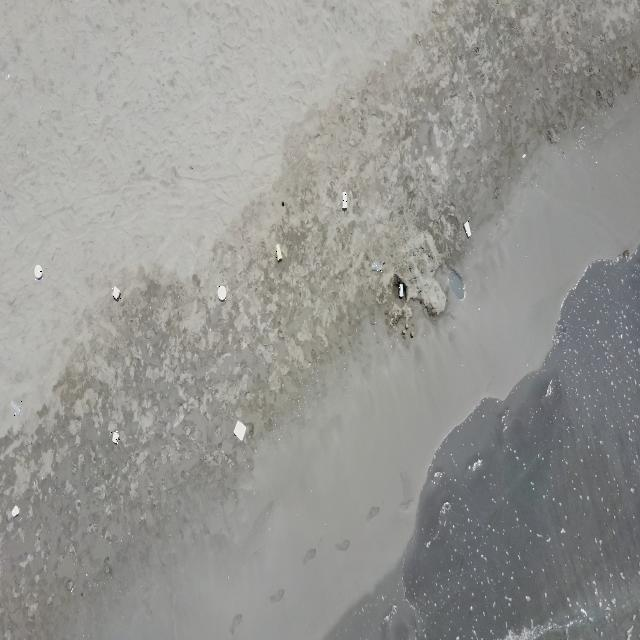take-away-containers: (233, 418, 246, 441), (217, 285, 227, 302), (112, 285, 121, 302), (34, 264, 43, 280), (111, 430, 120, 444), (10, 505, 18, 517)
takeaway-cup: (10, 400, 22, 416), (463, 220, 471, 238), (398, 282, 405, 298), (276, 244, 282, 262), (372, 262, 382, 272), (342, 192, 347, 209)
